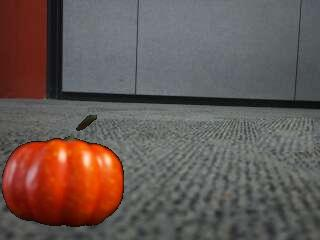Pumpkin: (0, 112, 124, 230)
